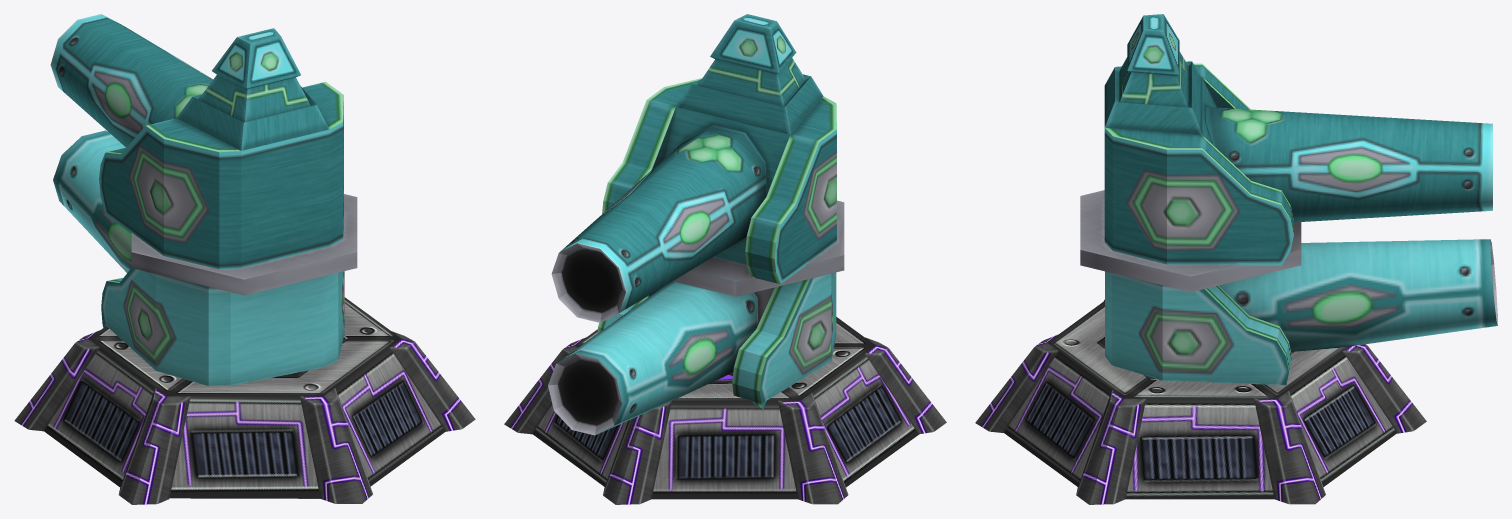
The model's file is Tower_DoubleDoT.FBX.
3 views of the same model, side by side, from view 1: azimuth 30°, elevation 25°; view 2: azimuth 150°, elevation 25°; view 3: azimuth 270°, elevation 25° (orthographic). The views are drawn at different scales.
Visible parts, largest first — view 1: Body_Top_DoubleDoT, Base_DoubleDoT, Body_Bottom_DoubleDoT; view 2: Body_Top_DoubleDoT, Base_DoubleDoT, Body_Bottom_DoubleDoT; view 3: Body_Top_DoubleDoT, Base_DoubleDoT, Body_Bottom_DoubleDoT.
Boxes of the visible parts, bbox=[...] form: Body_Top_DoubleDoT: bbox=[50, 14, 357, 295]; Base_DoubleDoT: bbox=[14, 297, 475, 504]; Body_Bottom_DoubleDoT: bbox=[53, 130, 344, 386]; Body_Top_DoubleDoT: bbox=[551, 14, 844, 322]; Base_DoubleDoT: bbox=[504, 317, 946, 504]; Body_Bottom_DoubleDoT: bbox=[548, 272, 836, 435]; Body_Top_DoubleDoT: bbox=[1080, 14, 1492, 292]; Base_DoubleDoT: bbox=[975, 299, 1426, 504]; Body_Bottom_DoubleDoT: bbox=[1105, 239, 1497, 385].
Size of the model in its own units: 25.65 by 28.44 by 34.11.
